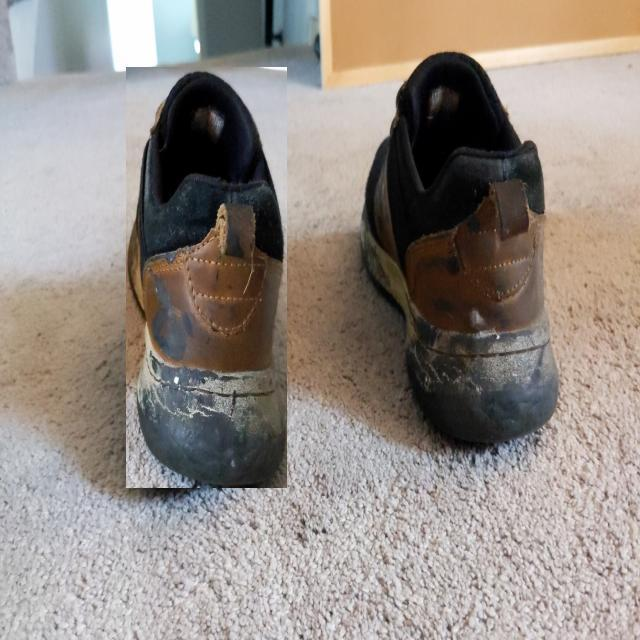shoe: (358, 50, 560, 447), (126, 67, 287, 488)
